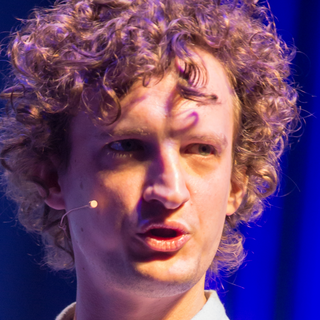eye: (178, 138, 225, 163), (104, 135, 149, 160)
